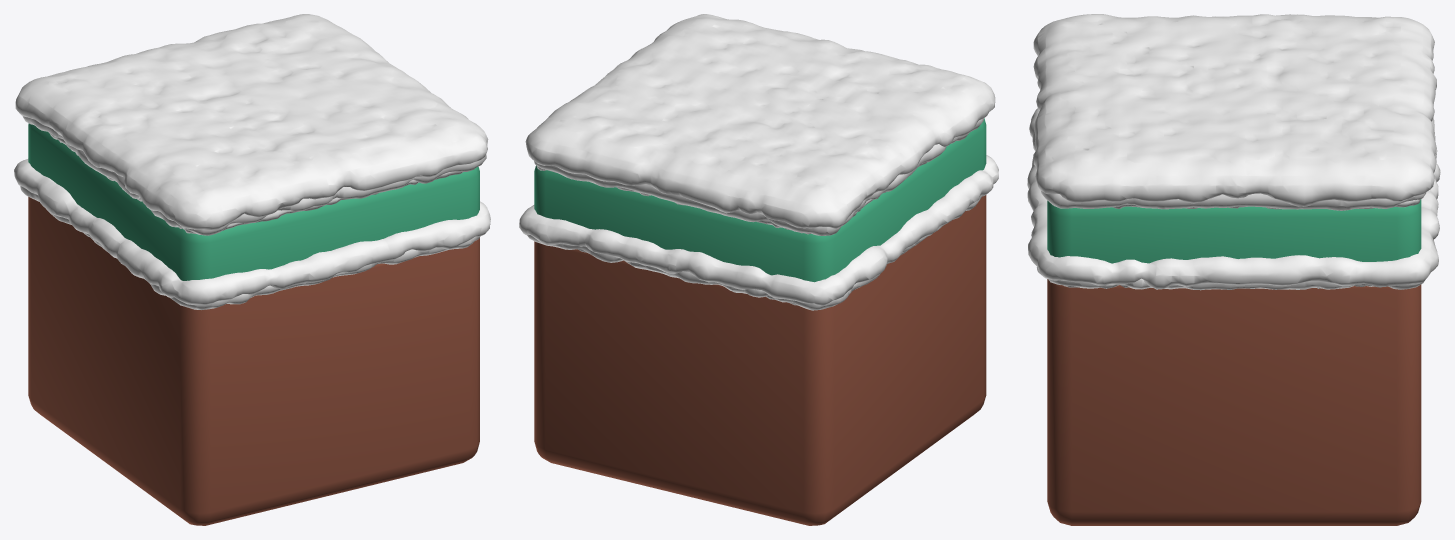
3 views of the same model, side by side, from view 1: azimuth 30°, elevation 25°; view 2: azimuth 150°, elevation 25°; view 3: azimuth 270°, elevation 25° (orthographic). The views are drawn at different scales.
Visible parts, largest first — view 1: tileHigh_forest_Cube.708, SnowBall.003, SnowBall.002, SnowBall.001; view 2: tileHigh_forest_Cube.708, SnowBall.003, SnowBall.002; view 3: tileHigh_forest_Cube.708, SnowBall.003, SnowBall.002.
Part boxes in pixels (x1,y1,x2,y2): tileHigh_forest_Cube.708: [28, 123, 479, 525]; SnowBall.003: [14, 14, 490, 305]; SnowBall.002: [20, 116, 486, 309]; SnowBall.001: [48, 132, 479, 289]; tileHigh_forest_Cube.708: [534, 118, 986, 525]; SnowBall.003: [519, 14, 998, 305]; SnowBall.002: [527, 118, 983, 310]; tileHigh_forest_Cube.708: [1047, 199, 1421, 525]; SnowBall.003: [1027, 14, 1440, 289]; SnowBall.002: [1036, 190, 1426, 290].
Size of the model in its own units: 2.21 by 2.18 by 2.21.
